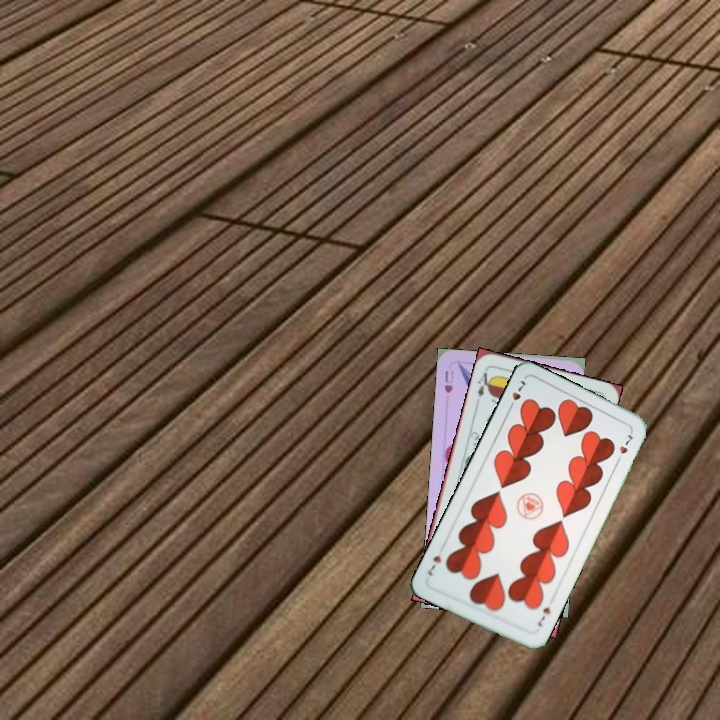EA: (473, 365, 495, 400)
H7: (504, 376, 529, 413), (534, 603, 553, 629)
HU: (440, 366, 456, 396)
